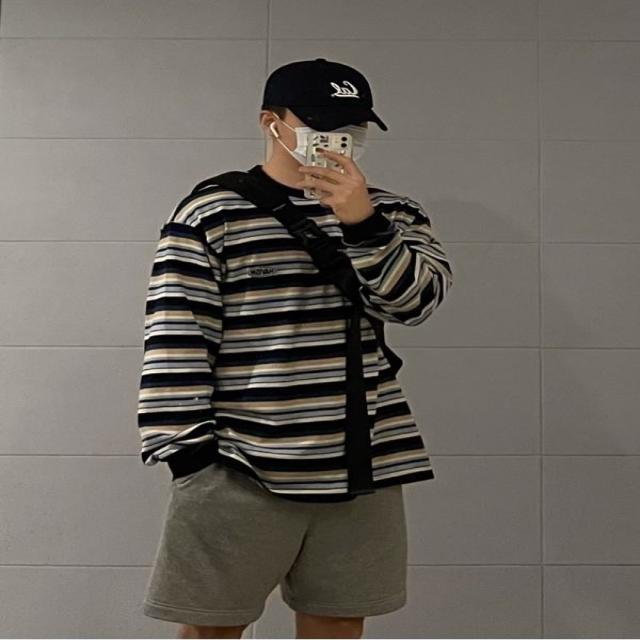longsleeve: (134, 170, 450, 499)
shortpants: (141, 460, 407, 627)
